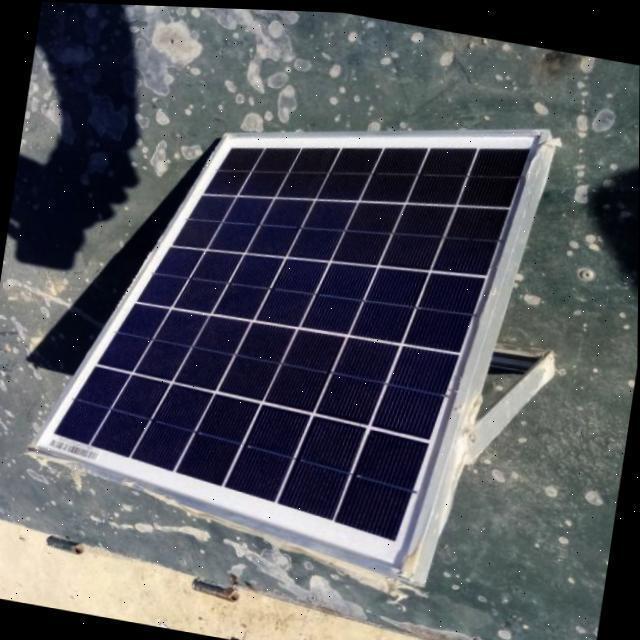Normal Solar Panel: (19, 50, 544, 588)
